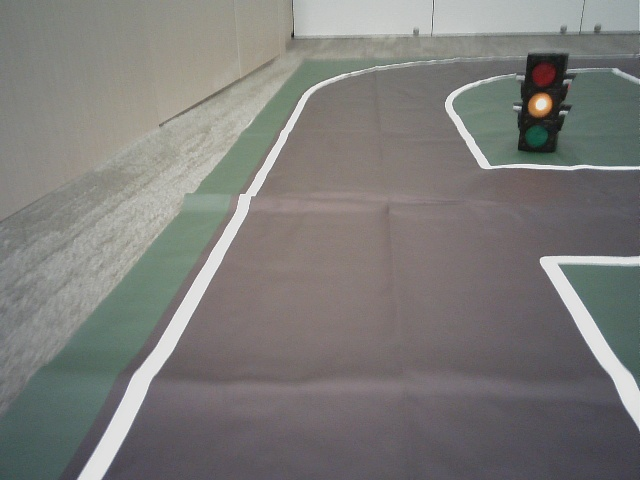yellow: (524, 54, 554, 148)
